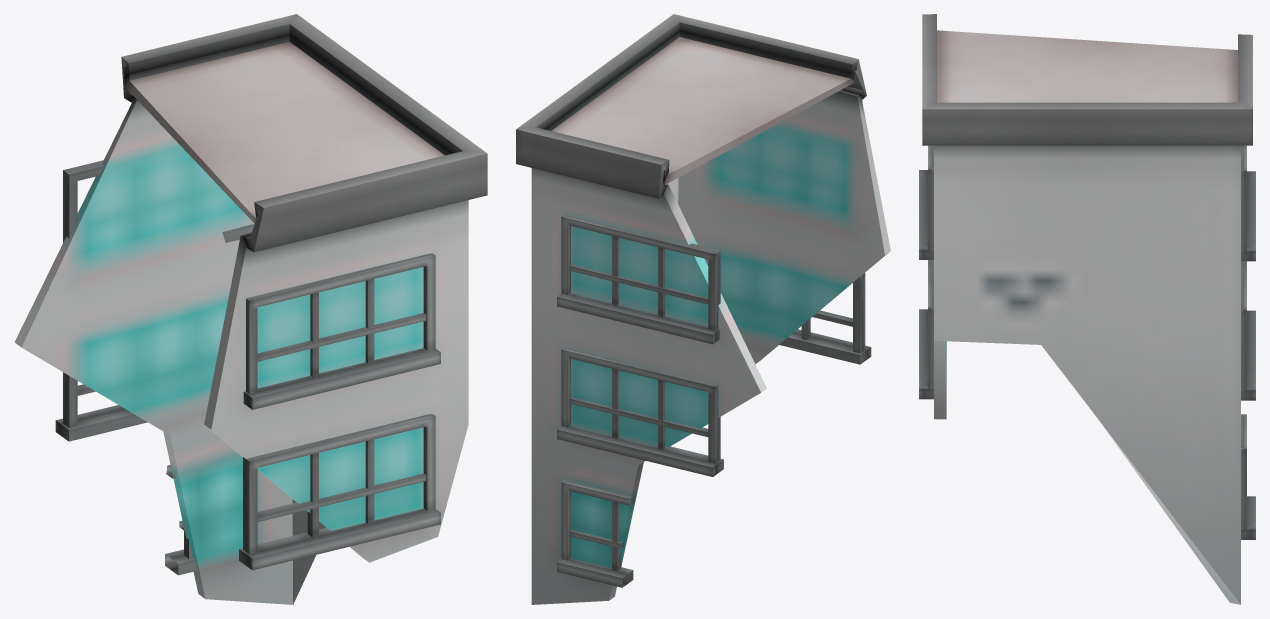
File: B6Broke01.FBX
The picture shows the model from 3 angles, left to right: view 1: azimuth 30°, elevation 25°; view 2: azimuth 150°, elevation 25°; view 3: azimuth 270°, elevation 25°; orthographic projection. The views are drawn at different scales.
Parts seen in each view (by area): view 1: B6Broke01; view 2: B6Broke01; view 3: B6Broke01.
Part boxes in pixels (x1,y1,x2,y2): B6Broke01: (14,14,487,604); B6Broke01: (516,14,890,604); B6Broke01: (919,14,1255,604).
Bounding box in the file's own units: 48.95 × 93.25 × 56.84.
